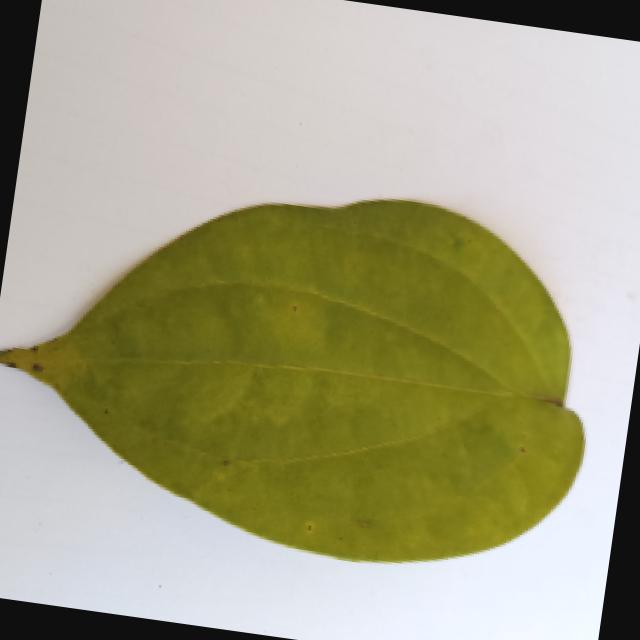slow-decline: (0, 138, 629, 603)
